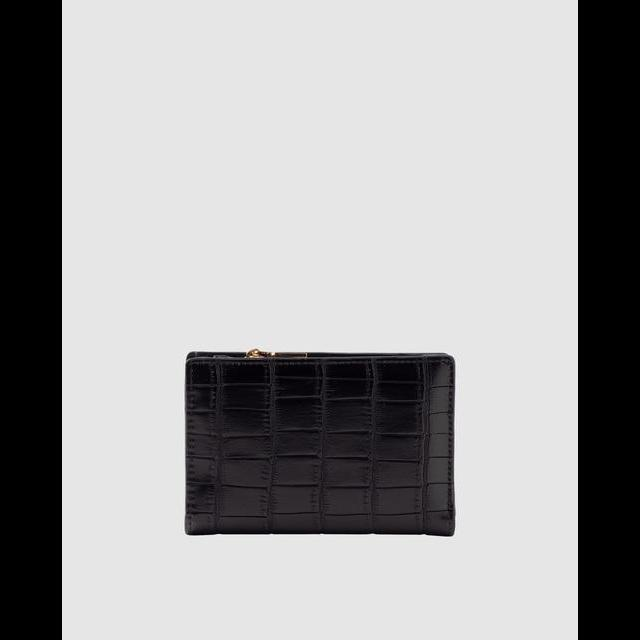wallet: (179, 346, 463, 542)
